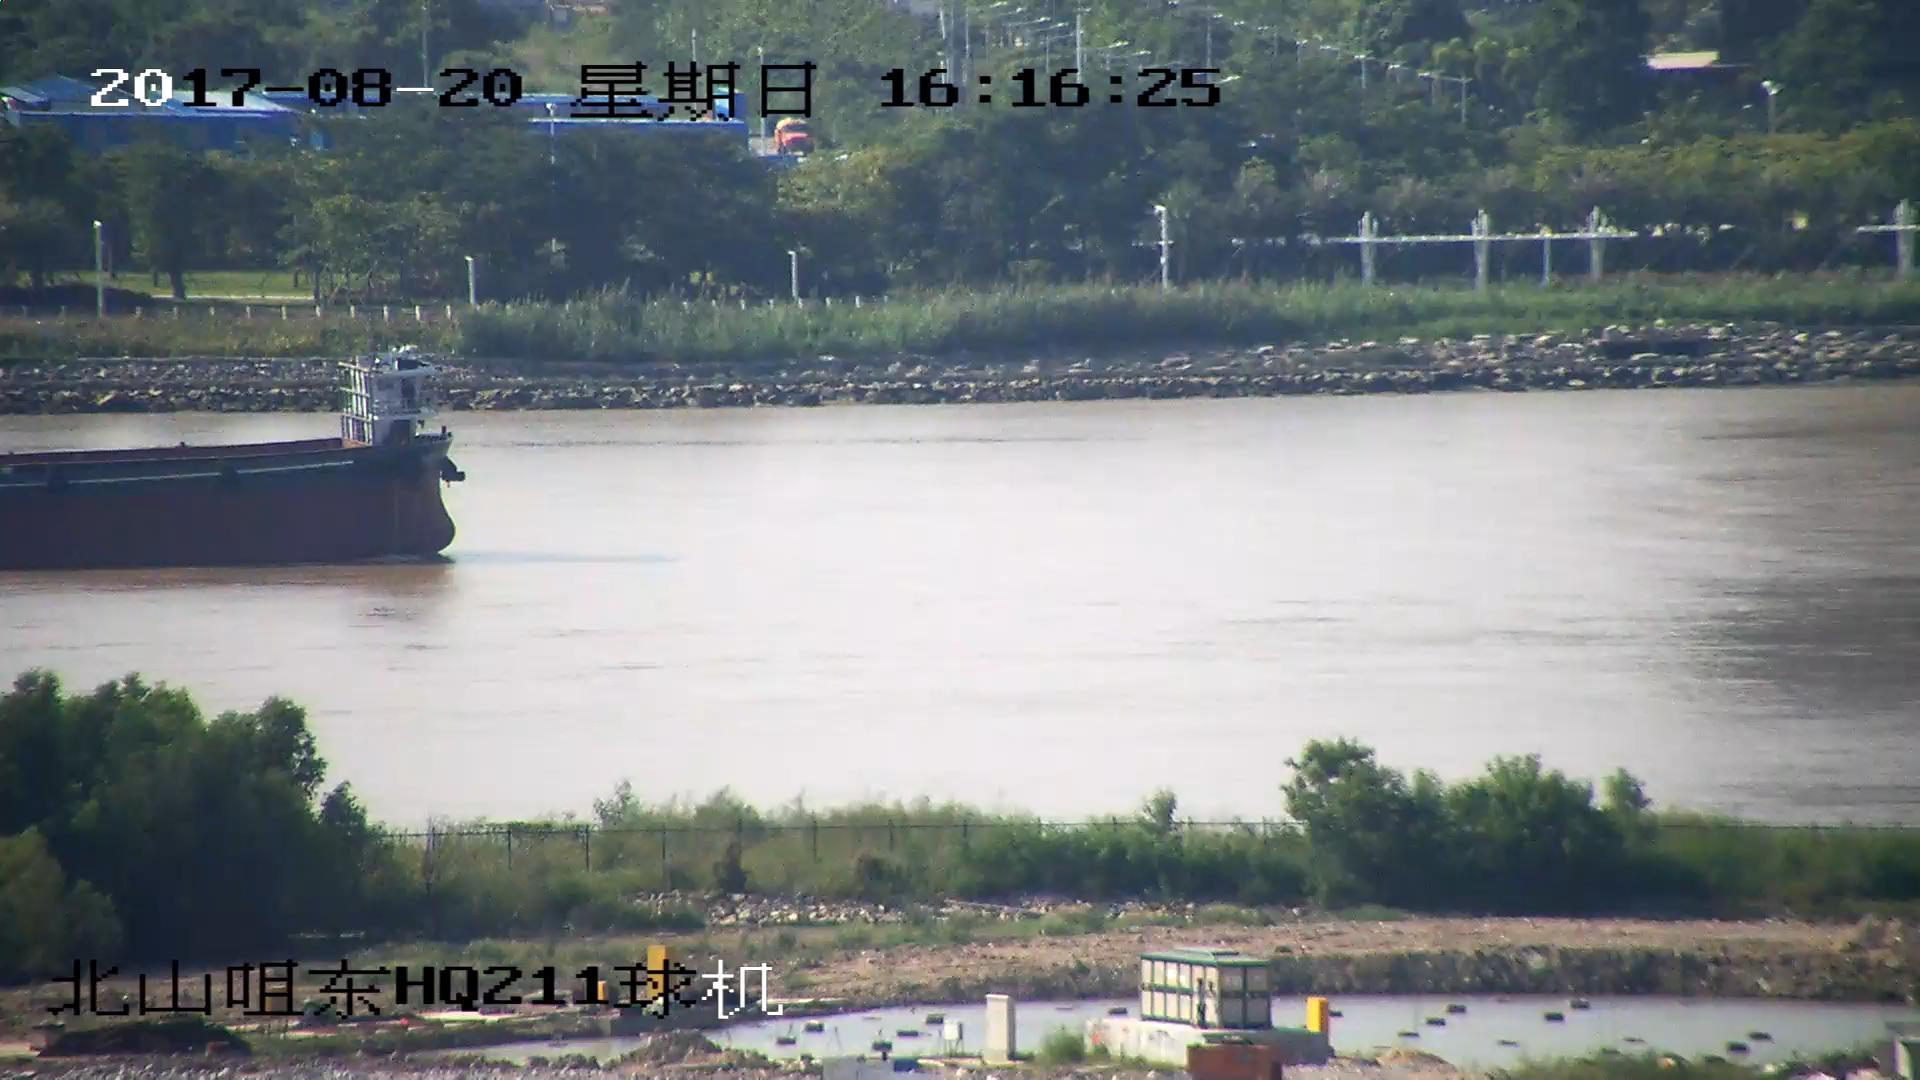Ship: (3, 356, 465, 563)
